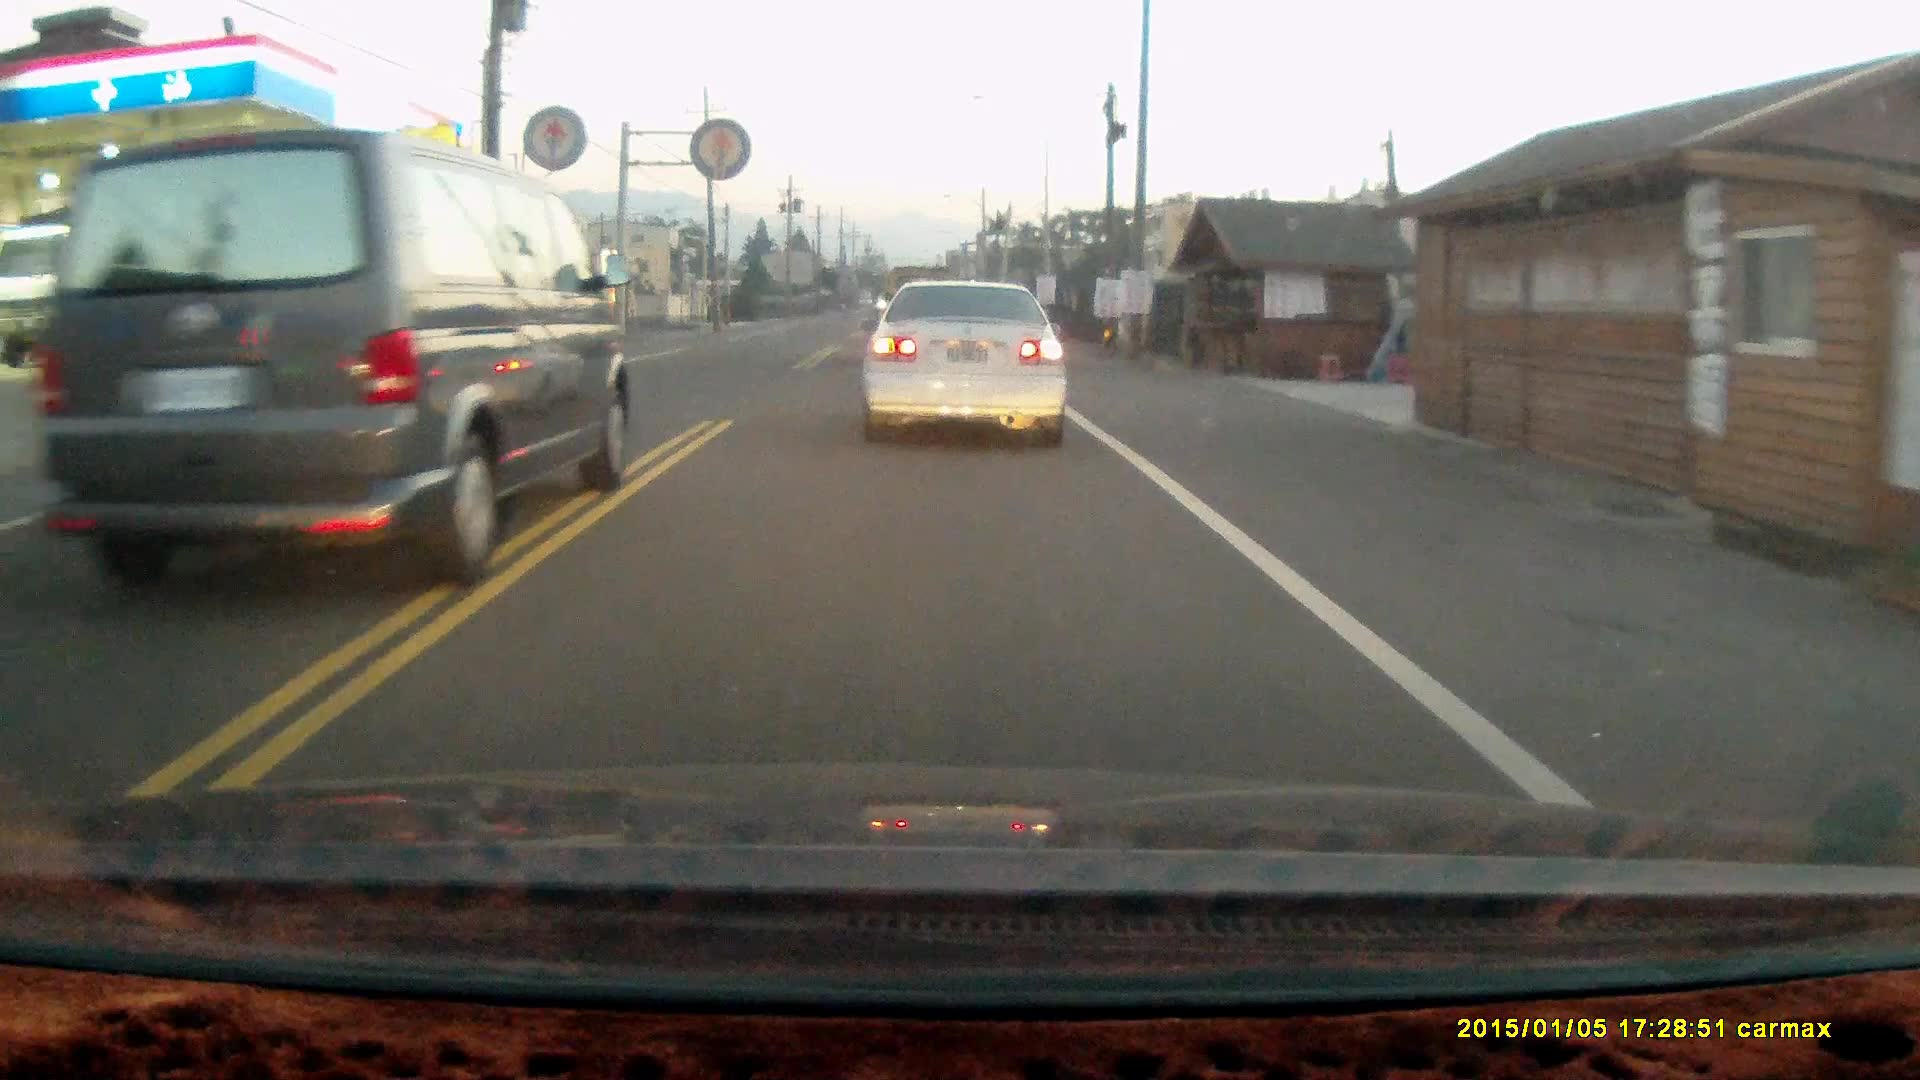vehicle: (20, 135, 618, 597), (862, 280, 1069, 455), (8, 199, 148, 365)
